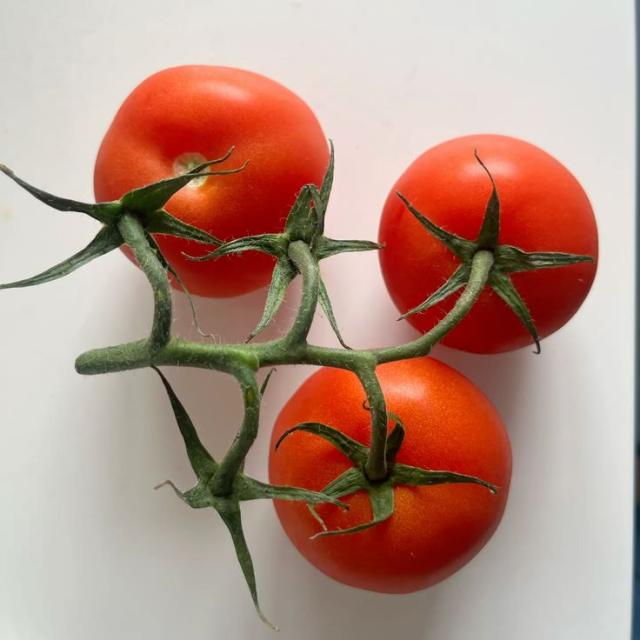tomato: (275, 358, 511, 593), (380, 135, 598, 337), (94, 66, 328, 240)
